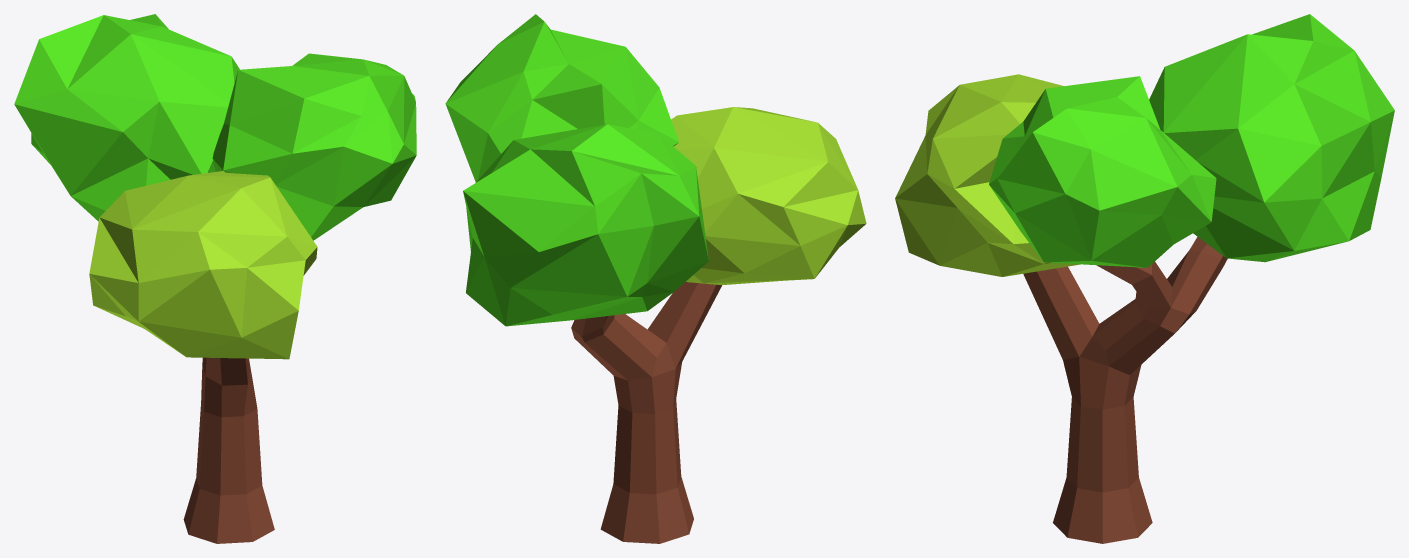
The model's file is Oak_01.fbx.
3 renders of one model, left to right at view 1: azimuth 30°, elevation 25°; view 2: azimuth 150°, elevation 25°; view 3: azimuth 270°, elevation 25°, orthographic. The views are drawn at different scales.
Parts seen in each view (by area): view 1: tree.001; view 2: tree.001; view 3: tree.001.
Boxes of the visible parts, bbox=[...] form: tree.001: bbox=[14, 14, 416, 543]; tree.001: bbox=[445, 14, 866, 543]; tree.001: bbox=[895, 14, 1394, 543].
Size of the model in its own units: 388 by 473 by 452.
